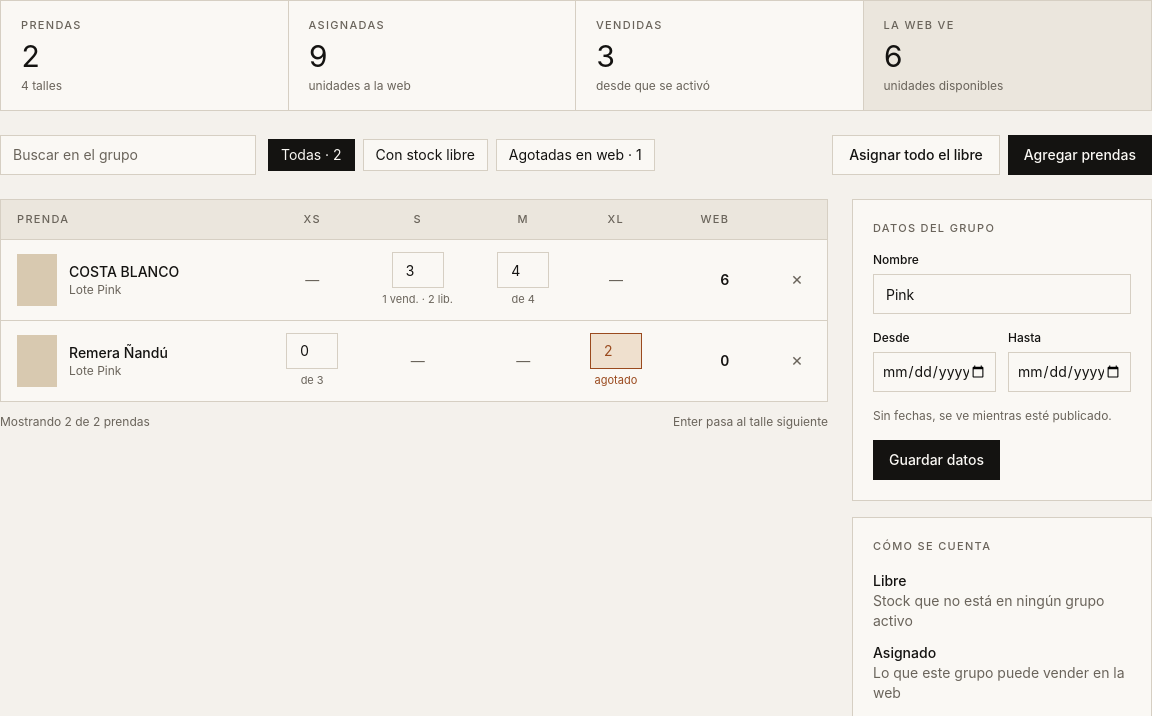
it: GroupWorkspace › unsaved changes › discards back to the saved values
Replace the text in the number field named "Asignado: COSTA BLANCO, talle S" with "2" at (418, 270), box [392, 252, 444, 288]
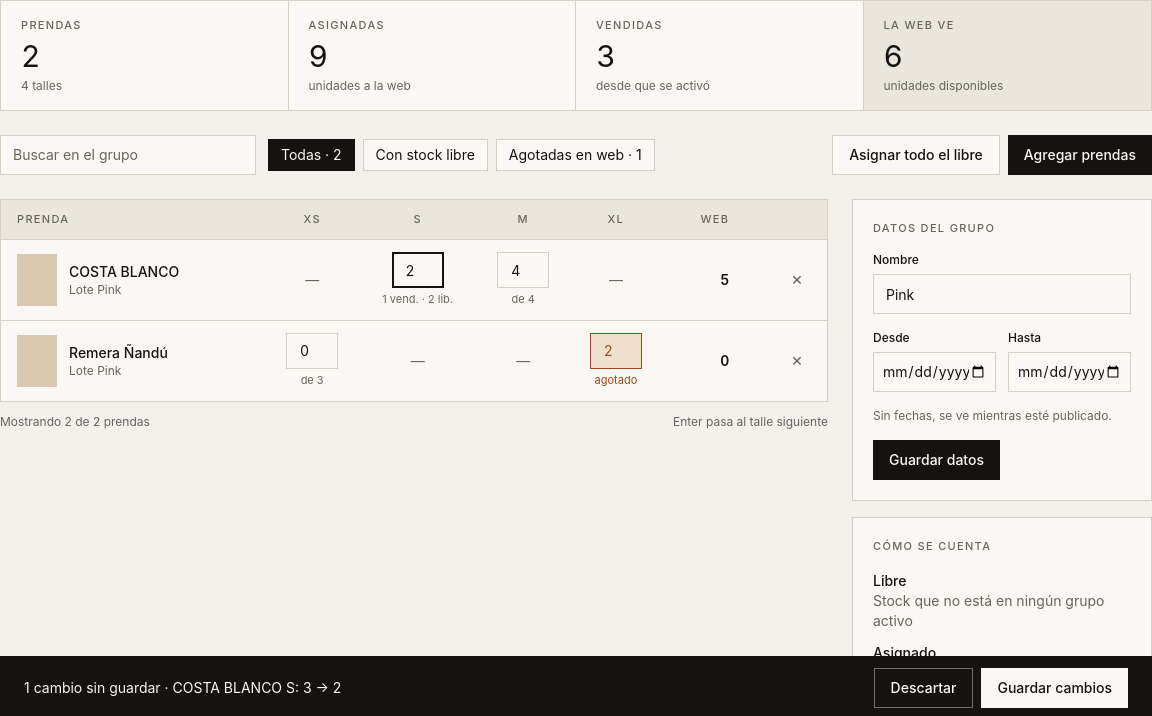
Click the button "Descartar" at (924, 688), box [874, 668, 974, 708]
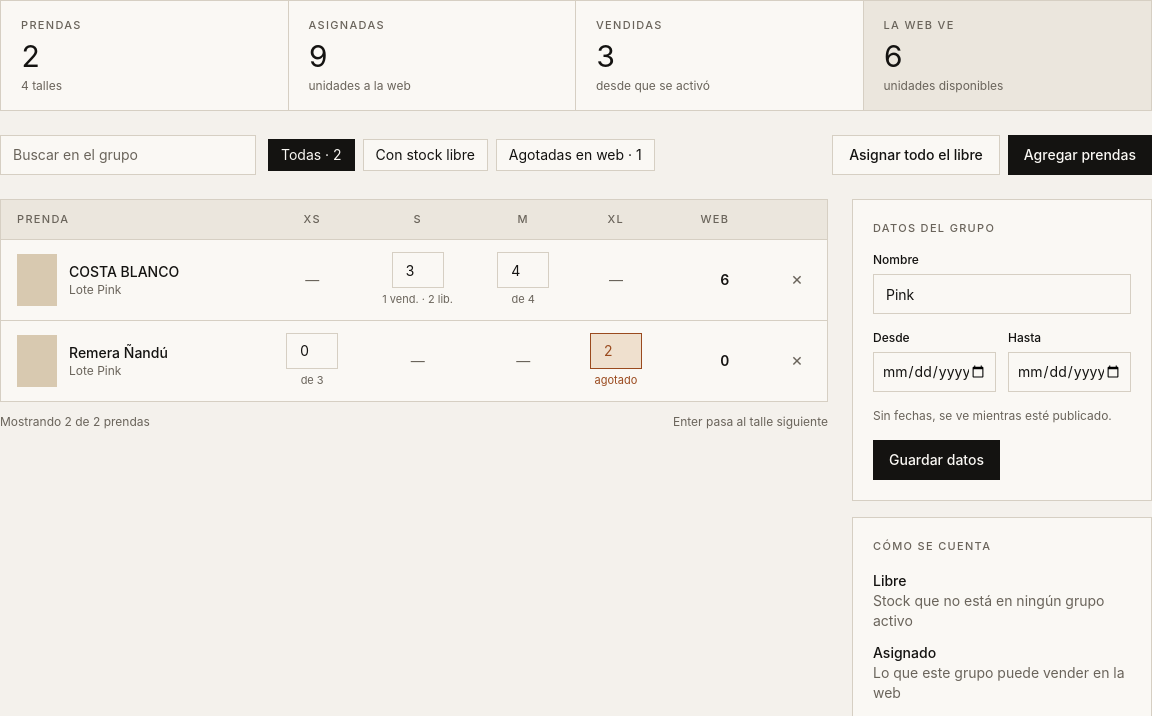
expect the button "Guardar cambios" is gone: met
